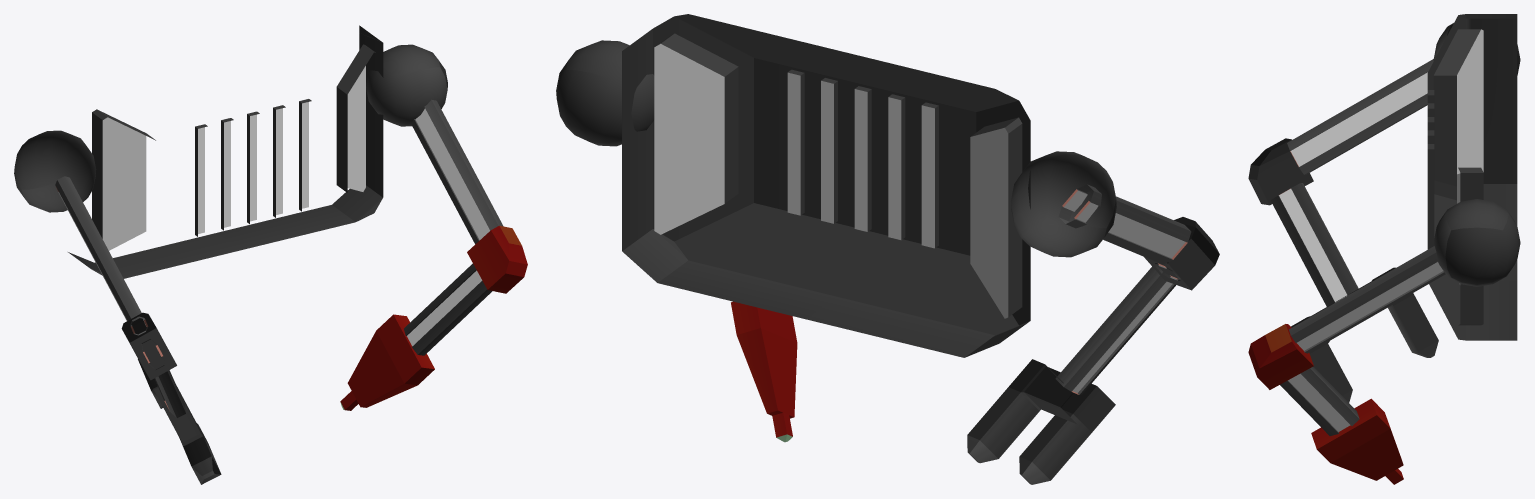
Rendered from robot_arm_soudure.fbx.
The picture shows the model from 3 angles, left to right: view 1: azimuth 30°, elevation 25°; view 2: azimuth 150°, elevation 25°; view 3: azimuth 270°, elevation 25°; orthographic projection. The views are drawn at different scales.
Visible parts, largest first — view 1: robot_arm_soudure; view 2: robot_arm_soudure; view 3: robot_arm_soudure.
Boxes of the visible parts, x1=… form: robot_arm_soudure: x1=14, y1=25, x2=527, y2=484; robot_arm_soudure: x1=556, y1=14, x2=1219, y2=484; robot_arm_soudure: x1=1248, y1=14, x2=1520, y2=484.
Size of the model in its own units: 186 by 149 by 97.2.
